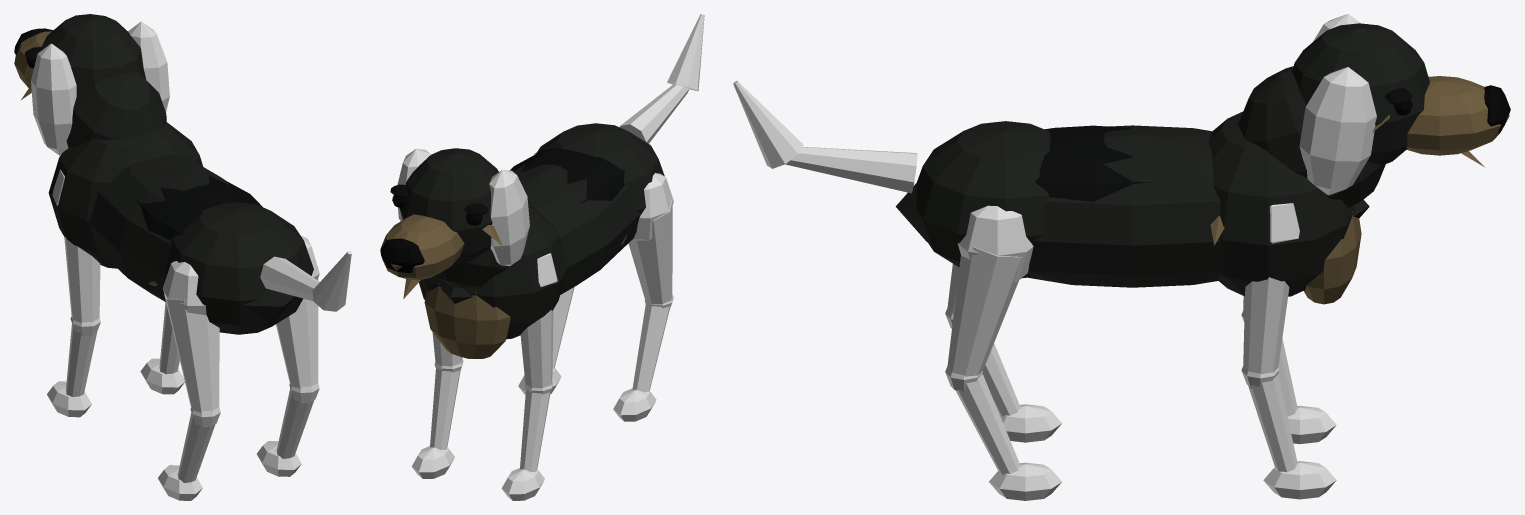
File: DogShaggy.fbx
3 views of the same model, side by side, from view 1: azimuth 30°, elevation 25°; view 2: azimuth 150°, elevation 25°; view 3: azimuth 270°, elevation 25° (orthographic). The views are drawn at different scales.
Visible parts, largest first — view 1: DogBody__Plain.001, DogHead__Plain.001, DogLegBLUpper__Plain.001, DogEarL__Plain.001, DogLegBRUpper__Plain.001, DogLegFLUpper__Plain.001, DogLegFLLower__Plain.001, DogLegBRLower__Plain.001, DogLegBLLower__Plain.001, DogEarR__Plain.001, DogTailA__Plain.001, DogTailB__Plain.001 (+5 smaller); view 2: DogBody__Plain.001, DogHead__Plain.001, DogLegBLUpper__Plain.001, DogEarL__Plain.001, DogLegFLUpper__Plain.001, DogLegBLLower__Plain.001, DogLegFLLower__Plain.001, DogLegFRLower__Plain.001, DogTailA__Plain.001, DogTailB__Plain.001, DogPawBL__Plain.001, DogPawFL__Plain.001 (+4 smaller); view 3: DogBody__Plain.001, DogHead__Plain.001, DogLegBRUpper__Plain.001, DogEarR__Plain.001, DogLegFRUpper__Plain.001, DogTailA__Plain.001, DogLegBRLower__Plain.001, DogLegFRLower__Plain.001, DogTailB__Plain.001, DogPawFR__Plain.001, DogPawBR__Plain.001, DogPawBL__Plain.001 (+2 smaller).
Boxes of the visible parts, x1=… form: DogBody__Plain.001: x1=48, y1=121, x2=313, y2=334; DogHead__Plain.001: x1=14, y1=14, x2=166, y2=147; DogLegBLUpper__Plain.001: x1=162, y1=261, x2=219, y2=412; DogEarL__Plain.001: x1=31, y1=43, x2=76, y2=155; DogLegBRUpper__Plain.001: x1=276, y1=235, x2=319, y2=388; DogLegFLUpper__Plain.001: x1=52, y1=169, x2=100, y2=322; DogLegFLLower__Plain.001: x1=65, y1=316, x2=100, y2=396; DogLegBRLower__Plain.001: x1=276, y1=383, x2=319, y2=458; DogLegBLLower__Plain.001: x1=177, y1=407, x2=220, y2=482; DogEarR__Plain.001: x1=128, y1=21, x2=169, y2=111; DogTailA__Plain.001: x1=260, y1=256, x2=319, y2=300; DogTailB__Plain.001: x1=312, y1=251, x2=351, y2=311; DogBody__Plain.001: x1=419, y1=123, x2=664, y2=358; DogHead__Plain.001: x1=380, y1=148, x2=507, y2=298; DogLegBLUpper__Plain.001: x1=628, y1=173, x2=673, y2=304; DogEarL__Plain.001: x1=489, y1=169, x2=529, y2=266; DogLegFLUpper__Plain.001: x1=520, y1=253, x2=557, y2=388; DogLegBLLower__Plain.001: x1=632, y1=294, x2=673, y2=392; DogLegFLLower__Plain.001: x1=520, y1=380, x2=553, y2=471; DogLegFRLower__Plain.001: x1=430, y1=358, x2=463, y2=449; DogTailA__Plain.001: x1=619, y1=84, x2=689, y2=143; DogTailB__Plain.001: x1=667, y1=14, x2=704, y2=91; DogPawBL__Plain.001: x1=613, y1=388, x2=656, y2=421; DogPawFL__Plain.001: x1=501, y1=468, x2=544, y2=500; DogBody__Plain.001: x1=895, y1=111, x2=1369, y2=304; DogHead__Plain.001: x1=1238, y1=23, x2=1510, y2=207; DogLegBRUpper__Plain.001: x1=947, y1=205, x2=1033, y2=376; DogEarR__Plain.001: x1=1299, y1=67, x2=1376, y2=195; DogLegFRUpper__Plain.001: x1=1243, y1=203, x2=1299, y2=374; DogTailA__Plain.001: x1=785, y1=147, x2=917, y2=193; DogLegBRLower__Plain.001: x1=945, y1=366, x2=1020, y2=474; DogLegFRLower__Plain.001: x1=1241, y1=366, x2=1297, y2=472; DogTailB__Plain.001: x1=733, y1=81, x2=803, y2=168; DogPawFR__Plain.001: x1=1263, y1=461, x2=1336, y2=499; DogPawBR__Plain.001: x1=989, y1=462, x2=1061, y2=500; DogPawBL__Plain.001: x1=999, y1=404, x2=1061, y2=442.
Size of the model in its own units: 0.3553 by 0.8312 by 1.33.
